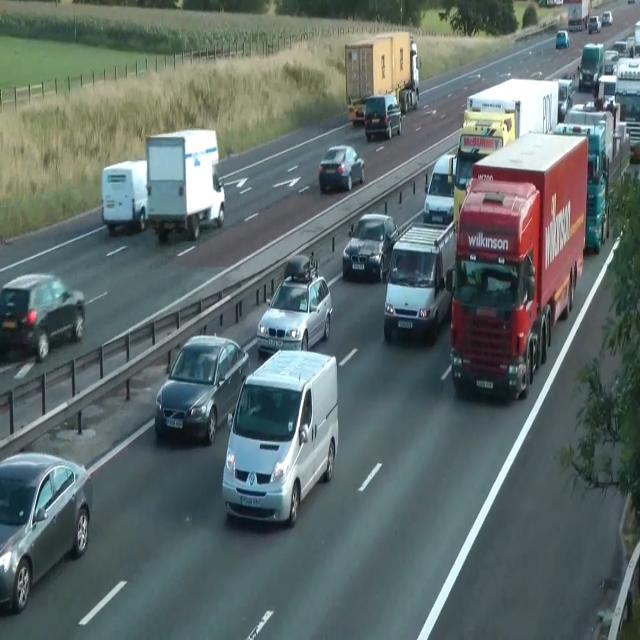bus: (0, 450, 92, 612), (154, 334, 250, 446), (256, 252, 332, 356), (0, 272, 86, 363), (342, 212, 399, 282), (423, 151, 457, 224), (318, 144, 365, 194), (590, 608, 624, 639), (558, 78, 572, 121), (347, 95, 365, 125), (602, 50, 618, 74), (556, 29, 570, 49), (613, 40, 629, 57), (587, 15, 601, 33), (601, 11, 613, 25), (568, 19, 582, 31)
jeep: (221, 348, 339, 527), (364, 92, 402, 142)
minibus: (448, 129, 588, 400), (452, 78, 558, 230), (145, 127, 225, 241), (383, 221, 457, 343), (452, 109, 514, 231), (554, 121, 610, 253), (345, 30, 419, 124), (466, 77, 558, 139), (101, 159, 148, 236), (614, 57, 640, 162), (577, 42, 605, 92), (568, 0, 592, 31), (538, 0, 564, 7)
